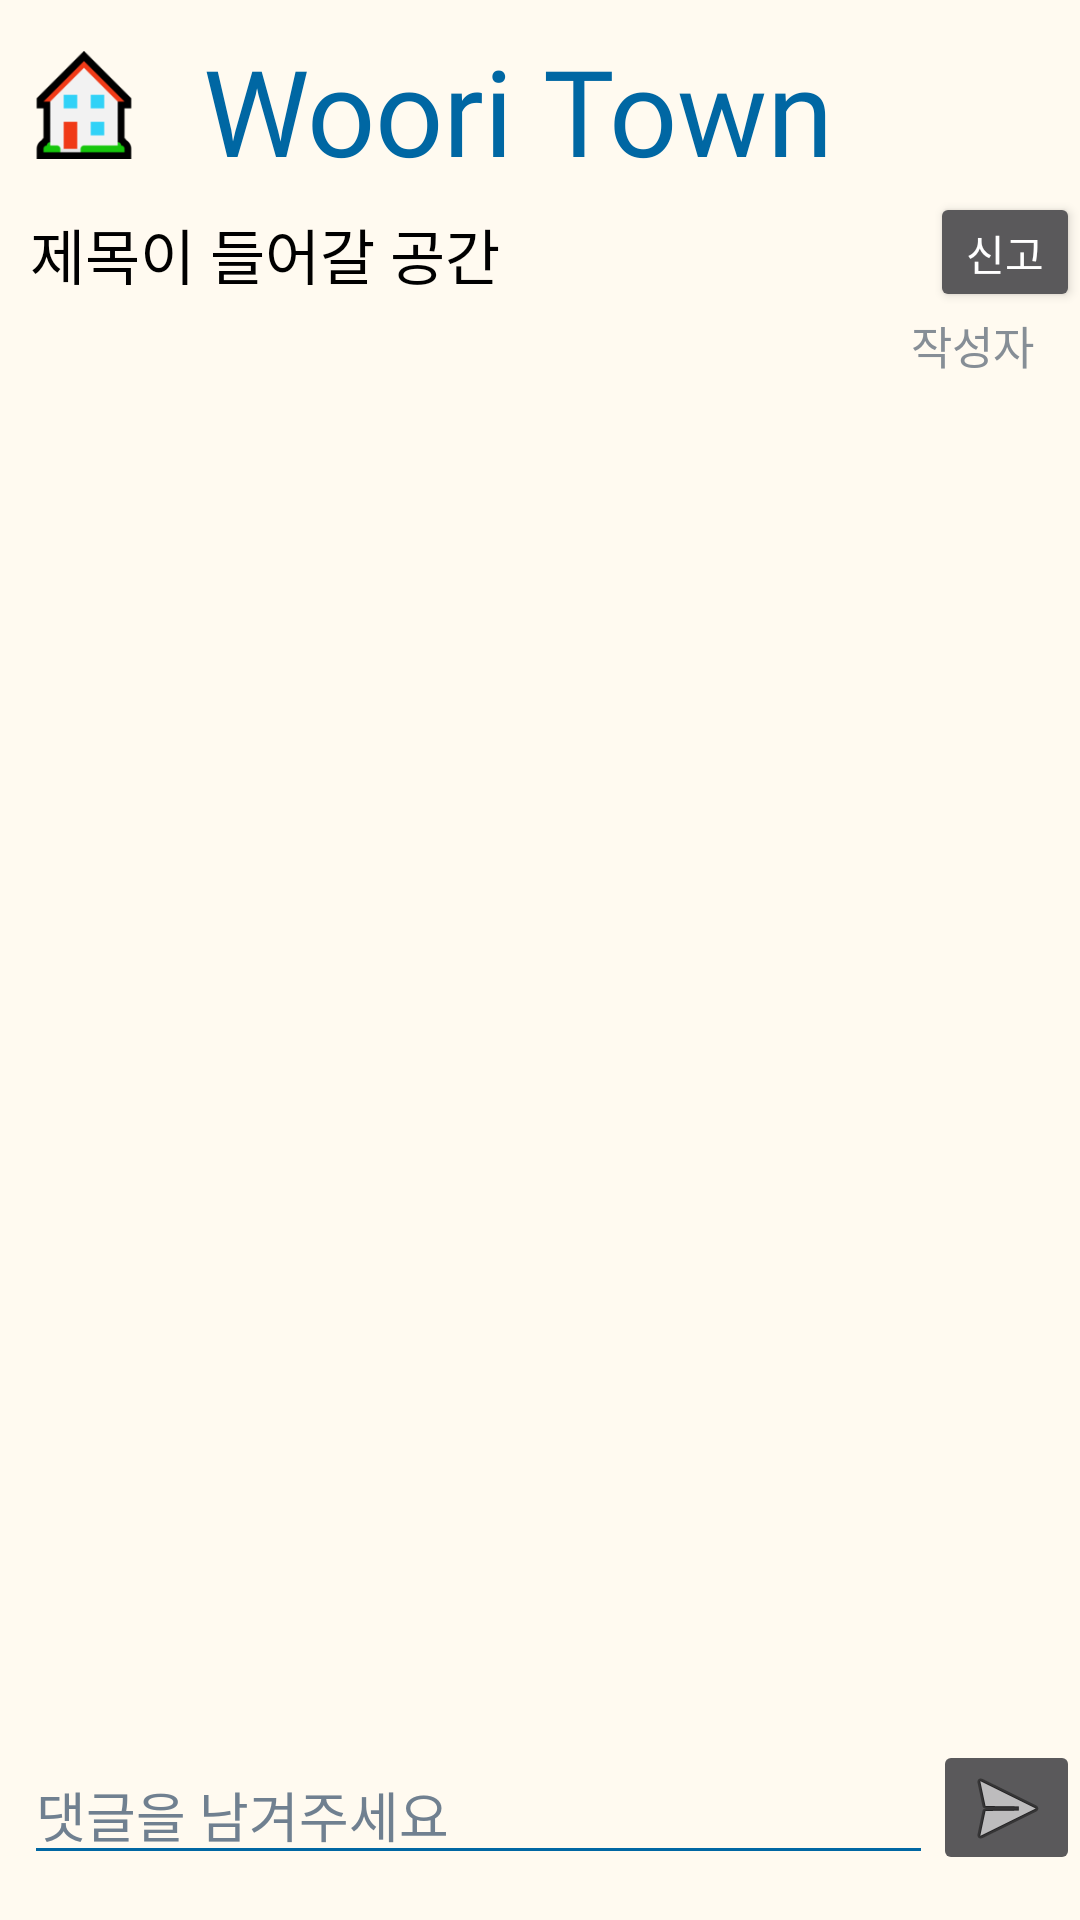

Icon click points for this 1080 × 1920 phone screenshot, format (x,y):
send: (1006,1807)
